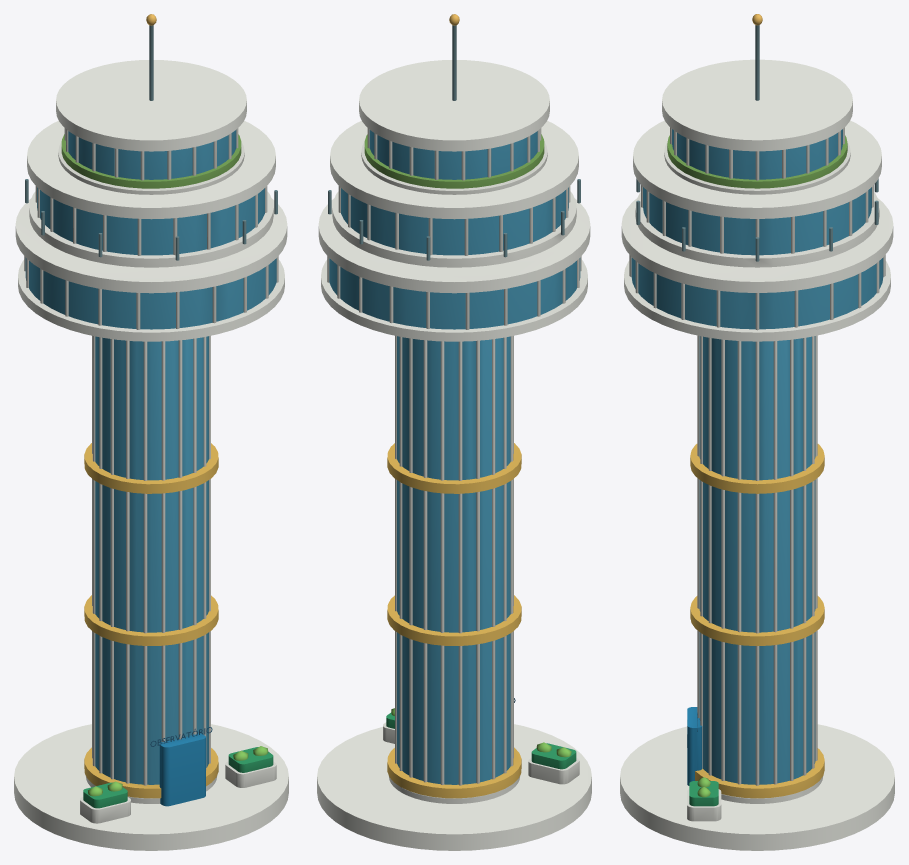
The model's file is eco-observatory.glb.
3 renders of one model, left to right at view 1: azimuth 30°, elevation 25°; view 2: azimuth 150°, elevation 25°; view 3: azimuth 270°, elevation 25°, orthographic.
Parts seen in each view (by area): view 1: landscaped podium, curved blue facade, tower collar, entrance, green viewing terrace, planter foliage, communications mast; view 2: landscaped podium, curved blue facade, tower collar, green viewing terrace, communications mast, planter foliage; view 3: landscaped podium, curved blue facade, tower collar, green viewing terrace, communications mast, entrance, planter foliage.
Boxes of the visible parts, x1,y1,x2,y2 form: landscaped podium: (14,60,288,850); curved blue facade: (25,130,276,784); tower collar: (84,443,218,798); entrance: (159,733,205,806); green viewing terrace: (61,134,241,188); planter foliage: (83,747,273,808); communications mast: (25,25,277,260); landscaped podium: (317,60,591,850); curved blue facade: (329,130,580,784); tower collar: (387,443,521,798); green viewing terrace: (364,134,544,188); communications mast: (328,25,580,260); planter foliage: (386,712,576,769); landscaped podium: (620,59,894,850); curved blue facade: (631,129,883,784); tower collar: (690,444,824,798); green viewing terrace: (667,135,847,188); communications mast: (636,25,878,261); entrance: (687,707,702,785); planter foliage: (689,781,718,806).
Bounding box in the file's own units: 3.6 × 11.25 × 3.6.
